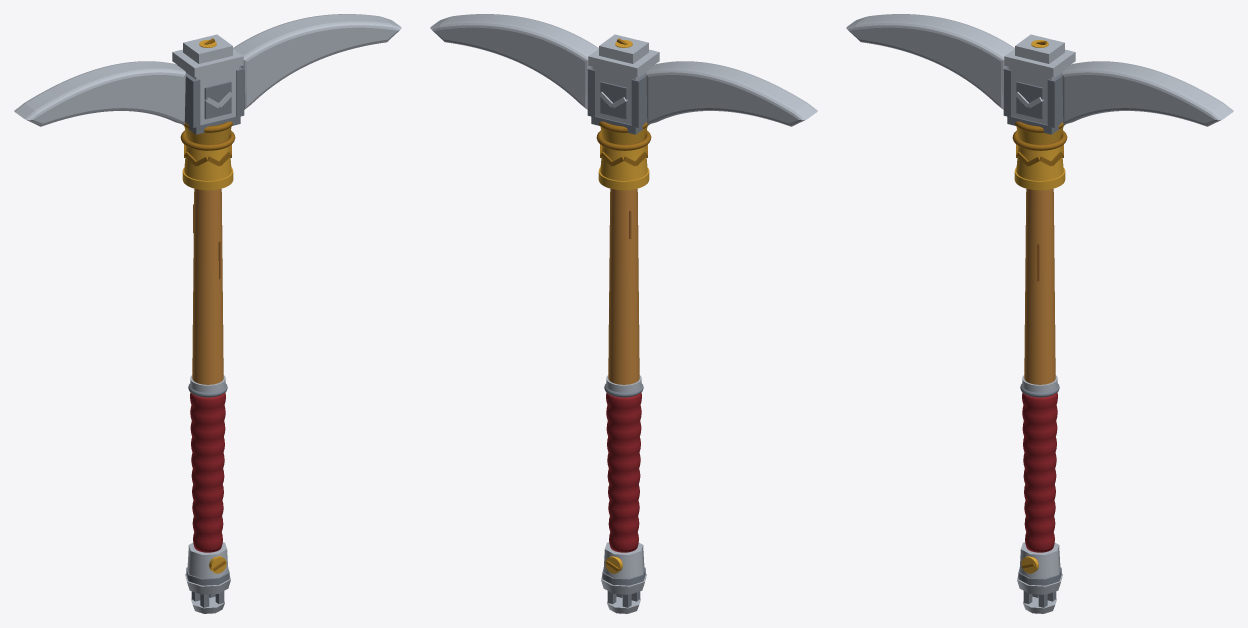
Rendered from axe.glb.
3 renders of one model, left to right at view 1: azimuth 30°, elevation 25°; view 2: azimuth 150°, elevation 25°; view 3: azimuth 330°, elevation 25°, orthographic.
Parts seen in each view (by area): view 1: wing_left, wing_right, shaft, grip, collar_body, head_block, head_top_plate, crown_boss, pommel_body, head_strap_l, head_inset_f, collar_lip_bottom (+1 smaller); view 2: wing_left, wing_right, shaft, grip, collar_body, head_block, head_top_plate, crown_boss, pommel_body, head_strap_l, head_inset_b, collar_lip_bottom (+1 smaller); view 3: wing_right, wing_left, shaft, grip, collar_body, head_block, head_top_plate, crown_boss, pommel_body, head_strap_r, head_inset_f, collar_lip_bottom (+1 smaller).
Part boxes in pixels (x1,y1,x2,y2): wing_left: (14, 61, 185, 126); wing_right: (233, 14, 401, 109); shaft: (192, 188, 223, 384); grip: (190, 392, 225, 552); collar_body: (184, 146, 231, 180); head_block: (177, 65, 239, 124); head_top_plate: (172, 49, 243, 77); crown_boss: (183, 34, 232, 63); pommel_body: (187, 542, 228, 578); head_strap_l: (184, 72, 200, 127); head_inset_f: (204, 81, 231, 119); collar_lip_bottom: (182, 167, 233, 190); wing_left: (646, 61, 817, 126); wing_right: (430, 14, 598, 109); shaft: (608, 188, 639, 384); grip: (606, 392, 641, 552); collar_body: (600, 146, 647, 180); head_block: (592, 65, 654, 124); head_top_plate: (588, 49, 659, 77); crown_boss: (599, 34, 648, 63); pommel_body: (603, 542, 644, 578); head_strap_l: (631, 72, 647, 127); head_inset_b: (600, 81, 627, 119); collar_lip_bottom: (598, 167, 649, 190); wing_right: (1062, 61, 1233, 126); wing_left: (846, 14, 1014, 109); shaft: (1024, 188, 1055, 384); grip: (1022, 392, 1057, 552); collar_body: (1016, 146, 1063, 180); head_block: (1008, 65, 1070, 124); head_top_plate: (1004, 49, 1075, 77); crown_boss: (1015, 34, 1064, 63); pommel_body: (1019, 542, 1060, 578); head_strap_r: (1047, 72, 1063, 127); head_inset_f: (1016, 81, 1043, 119); collar_lip_bottom: (1014, 167, 1065, 190).
Bounding box in the file's own units: 1.27 × 1.83 × 0.16.
